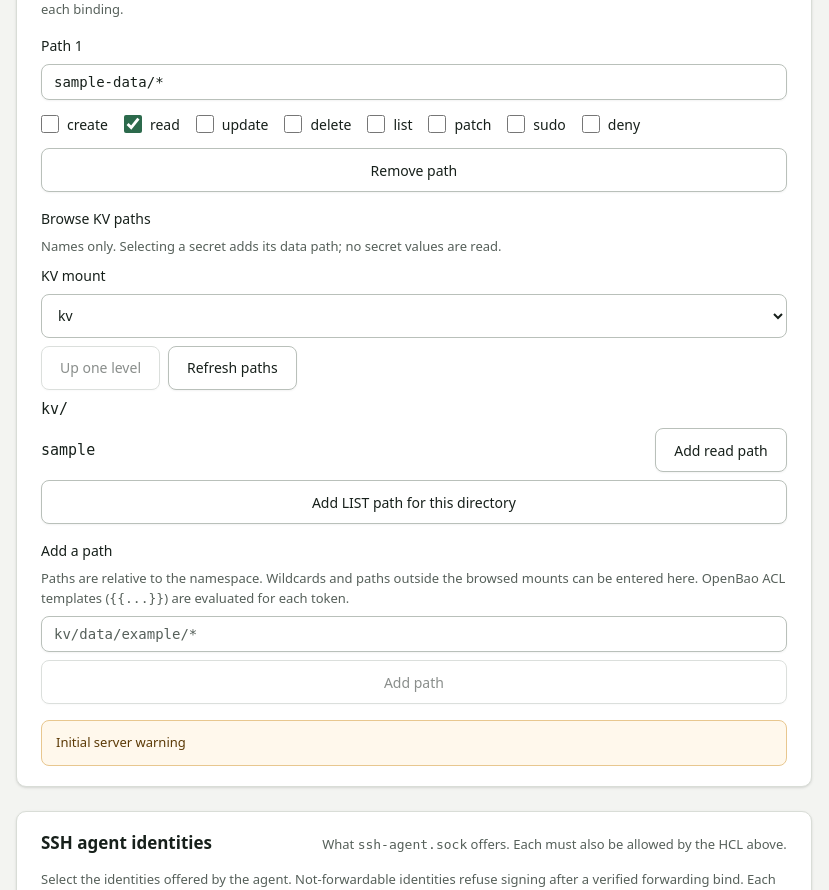
Test: checks the source after adding a browsed KV path
The width and height of the screenshot is (829, 890).
(page scrolled)
What coordinates should you click on to do the following:
click the button with aria-label "Add sample"
I would click on:
 (721, 450)
Its box is [655,428,787,472].
(page scrolled)
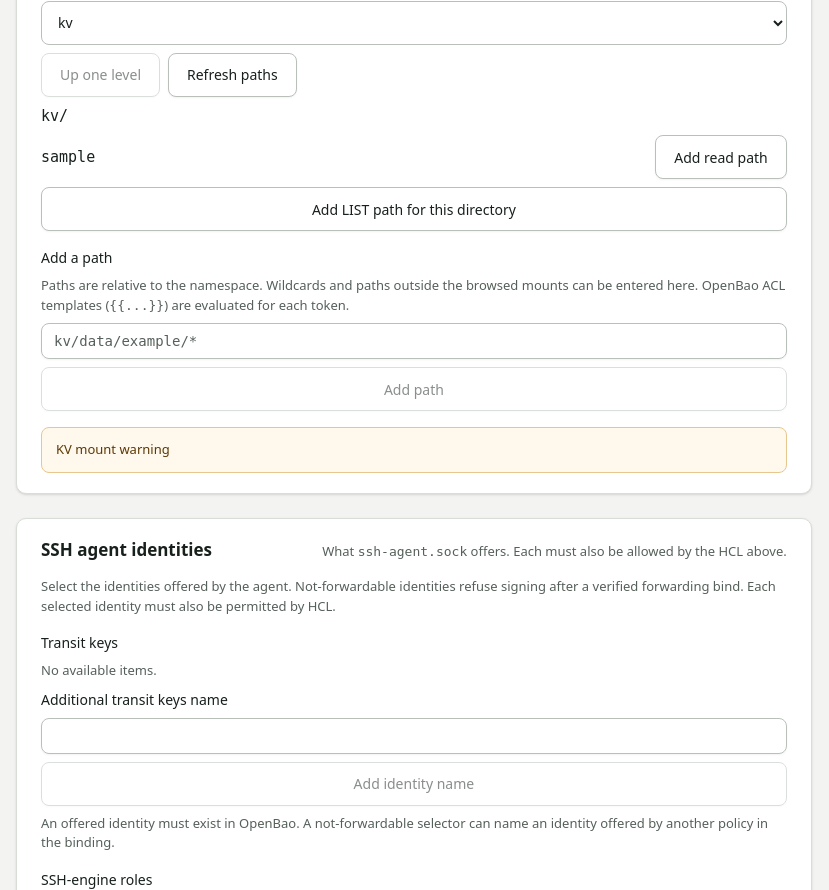
Now the text "KV mount warning" is shown, box [41,427,787,473]
